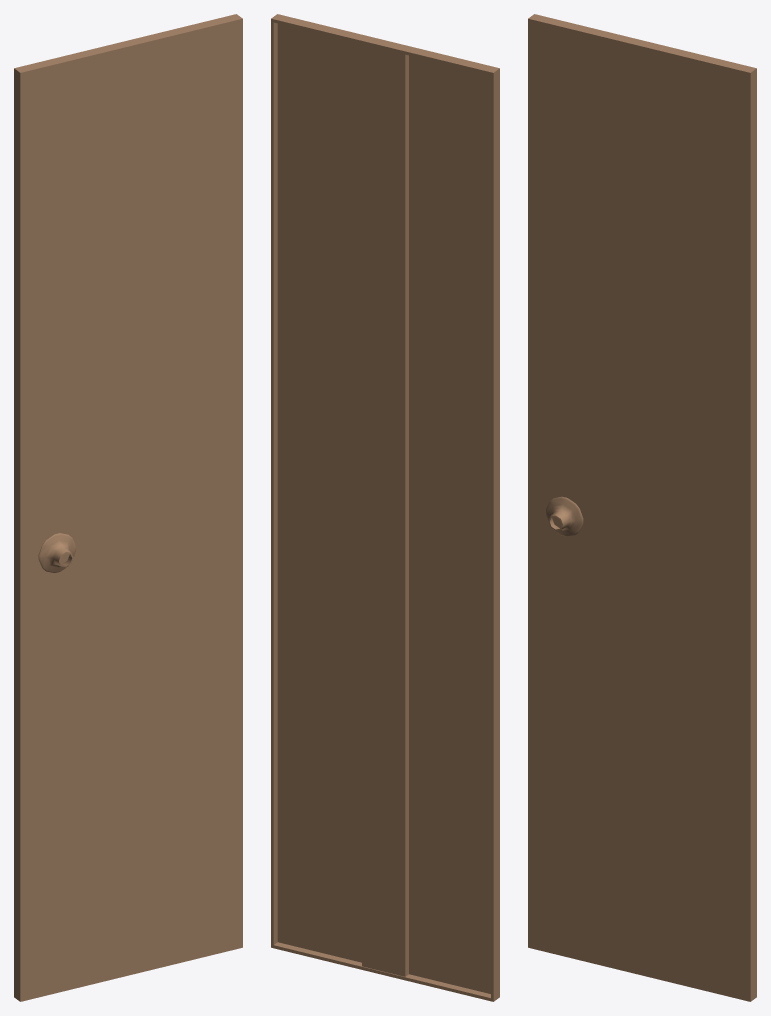
Rendered from Puerta Armario Der 1.fbx.
3 renders of one model, left to right at view 1: azimuth 30°, elevation 25°; view 2: azimuth 150°, elevation 25°; view 3: azimuth 330°, elevation 25°, orthographic.
Parts seen in each view (by area): view 1: Puerta_Armario_Der_1; view 2: Puerta_Armario_Der_1; view 3: Puerta_Armario_Der_1.
Part boxes in pixels (box(x1,y1,x2,y2)): Puerta_Armario_Der_1: box(14, 14, 242, 1001); Puerta_Armario_Der_1: box(271, 14, 499, 1001); Puerta_Armario_Der_1: box(528, 14, 756, 1001).
Bounding box in the file's own units: 0.4083 × 1.63 × 0.0493.
